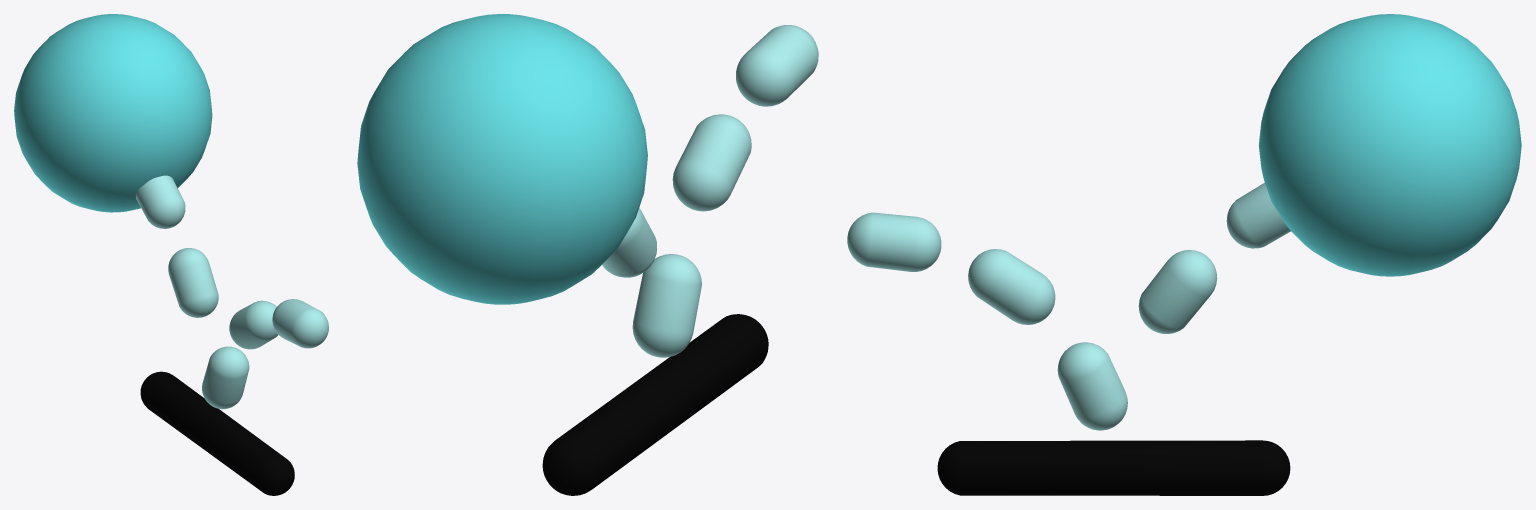
Rendered from bouncy.fbx.
3 renders of one model, left to right at view 1: azimuth 30°, elevation 25°; view 2: azimuth 150°, elevation 25°; view 3: azimuth 270°, elevation 25°, orthographic. The views are drawn at different scales.
Parts seen in each view (by area): view 1: b; view 2: b; view 3: b.
Part boxes in pixels (x1,y1,x2,y2): b: (14,14,328,495); b: (357,14,818,495); b: (847,14,1521,495).
Size of the model in its own units: 200 by 392 by 513.
